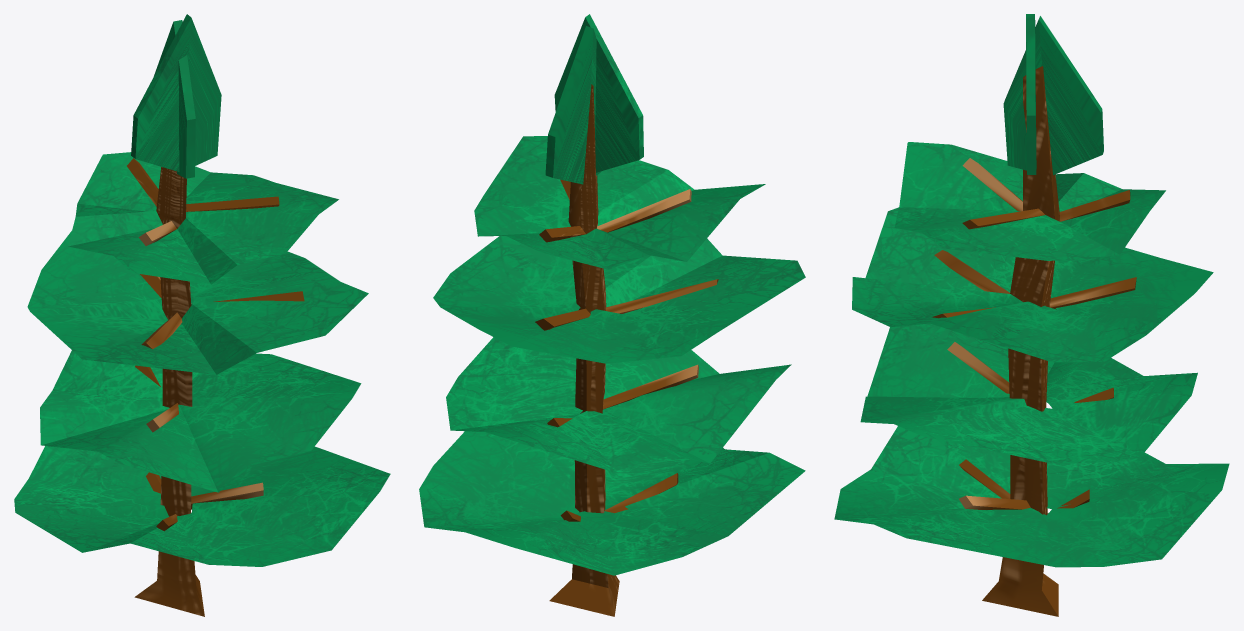
File: Tree.fbx
3 views of the same model, side by side, from view 1: azimuth 30°, elevation 25°; view 2: azimuth 150°, elevation 25°; view 3: azimuth 270°, elevation 25° (orthographic).
Visible parts, largest first — view 1: Tree; view 2: Tree; view 3: Tree.
Part boxes in pixels (box(x1,y1,x2,y2)): Tree: box(14, 14, 390, 616); Tree: box(419, 14, 805, 616); Tree: box(834, 14, 1229, 616).
Bounding box in the file's own units: 90.95 × 166 × 101.
1 material, 1 textured.
